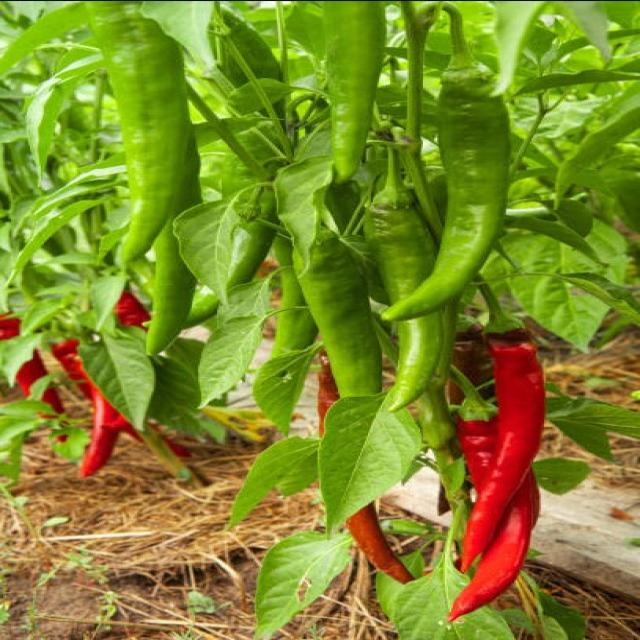Ripe: (448, 409, 538, 621), (463, 338, 546, 564), (51, 340, 141, 477), (346, 504, 414, 583)
Unripe: (384, 6, 508, 320), (90, 2, 198, 261), (297, 229, 382, 396), (324, 2, 386, 182), (365, 150, 435, 302), (147, 222, 196, 354), (386, 311, 446, 410)
